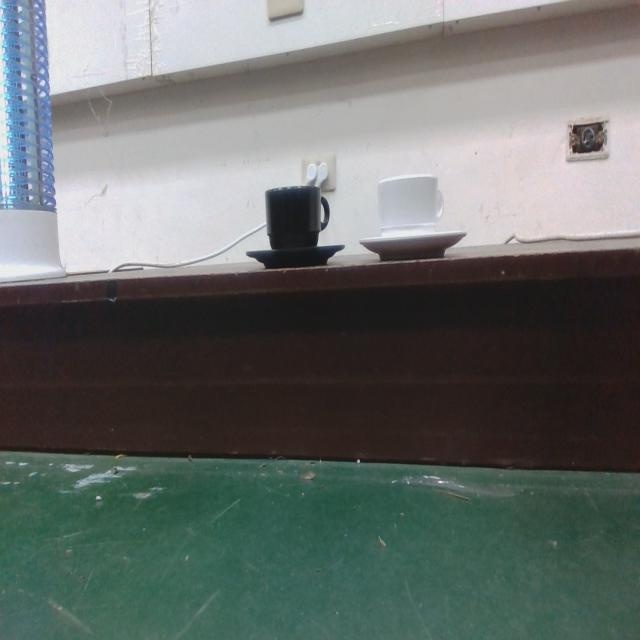black: (244, 182, 348, 272)
white: (358, 169, 468, 262)
